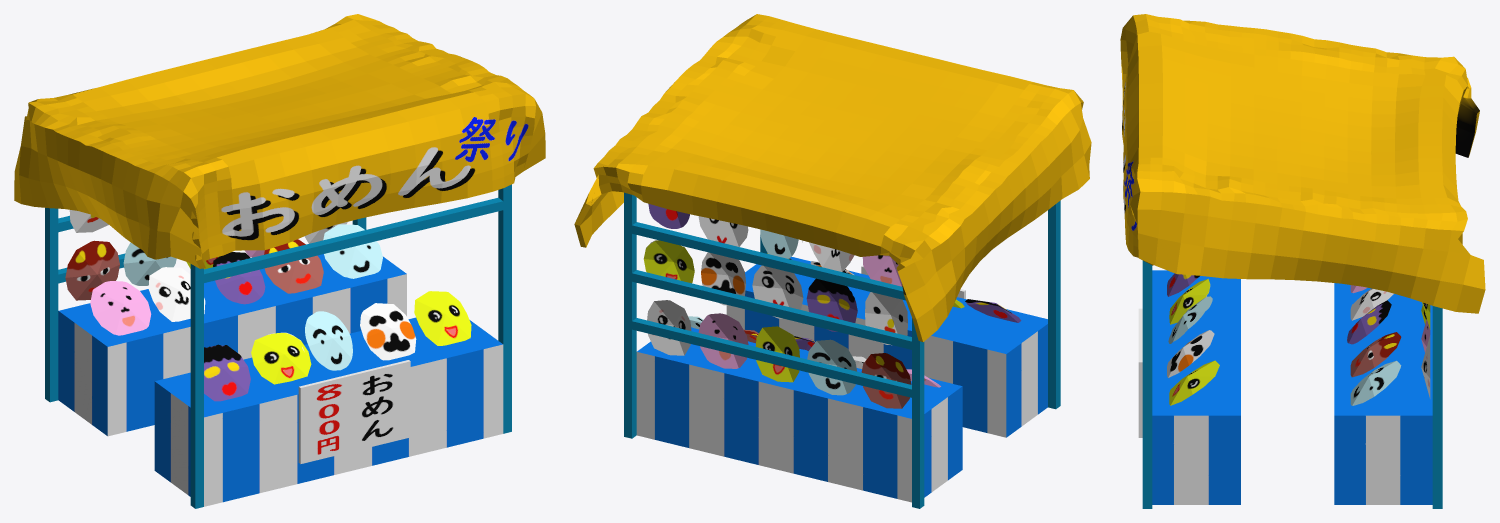
File: omen.fbx
The picture shows the model from 3 angles, left to right: view 1: azimuth 30°, elevation 25°; view 2: azimuth 150°, elevation 25°; view 3: azimuth 270°, elevation 25°; orthographic projection. The views are drawn at different scales.
Parts seen in each view (by area): view 1: Plane, Cube, Cube.002, Cube.005, Plane.001, Sphere.019, Sphere.016, Sphere.015, Sphere.020, Sphere.004, Sphere.017, Sphere.024 (+6 smaller); view 2: Plane, Cube.002, Cube.005, Cube, Sphere.007, Sphere.008, Sphere.004, Sphere.005, Sphere.001, Sphere.003, Sphere.002, Sphere.006 (+8 smaller); view 3: Plane, Cube.002, Cube, Cube.005, Sphere.022, Sphere.021, Sphere.020, Sphere.016, Sphere.023, Sphere.015, Sphere.024, Sphere.018 (+2 smaller).
Boxes of the visible parts, <box> form: Plane: <box>14,14,545,268</box>; Cube: <box>154,317,503,506</box>; Cube.002: <box>58,254,406,436</box>; Cube.005: <box>45,184,511,508</box>; Plane.001: <box>298,360,410,463</box>; Sphere.019: <box>90,281,151,335</box>; Sphere.016: <box>360,303,416,360</box>; Sphere.015: <box>251,332,311,384</box>; Sphere.020: <box>414,291,471,345</box>; Sphere.004: <box>65,240,119,300</box>; Sphere.017: <box>204,344,250,401</box>; Sphere.024: <box>302,311,352,370</box>; Plane: <box>574,14,1091,341</box>; Cube.002: <box>636,327,962,502</box>; Cube.005: <box>624,192,1060,508</box>; Cube: <box>726,256,1047,437</box>; Sphere.007: <box>752,265,803,318</box>; Sphere.008: <box>806,278,857,331</box>; Sphere.004: <box>861,353,911,408</box>; Sphere.005: <box>643,240,694,283</box>; Sphere.001: <box>698,313,748,368</box>; Sphere.003: <box>807,339,856,395</box>; Sphere.002: <box>755,326,799,382</box>; Sphere.006: <box>701,252,745,305</box>; Plane: <box>1120,14,1485,313</box>; Cube.002: <box>1334,283,1432,504</box>; Cube: <box>1152,270,1240,504</box>; Cube.005: <box>1142,260,1442,508</box>; Sphere.022: <box>1350,332,1401,377</box>; Sphere.021: <box>1350,360,1401,405</box>; Sphere.020: <box>1169,360,1219,405</box>; Sphere.016: <box>1167,330,1214,377</box>; Sphere.023: <box>1347,300,1391,344</box>; Sphere.015: <box>1169,279,1210,324</box>; Sphere.024: <box>1168,296,1212,343</box>; Sphere.018: <box>1350,288,1393,320</box>.
Size of the model in its own units: 928 by 760 by 743.
